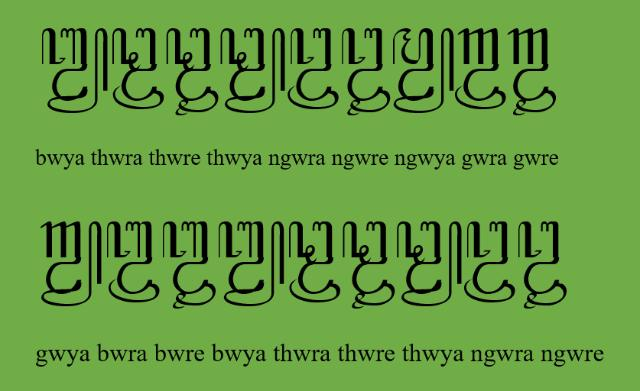bwr: (106, 220, 160, 304)
bwre: (162, 222, 216, 310)
bwy: (217, 220, 285, 308), (42, 27, 108, 114)
gwr: (456, 28, 506, 110)
gwre: (507, 28, 557, 116)
gwy: (40, 222, 102, 308)
ngwra: (463, 220, 515, 304), (286, 28, 338, 110)
ngwre: (518, 221, 568, 309), (342, 28, 391, 117)
thwr: (288, 220, 340, 304), (112, 28, 164, 110)
thwre: (342, 220, 396, 310), (165, 28, 219, 117)
thwy: (396, 220, 464, 308), (220, 28, 286, 114)
wwy: (393, 27, 455, 113)
